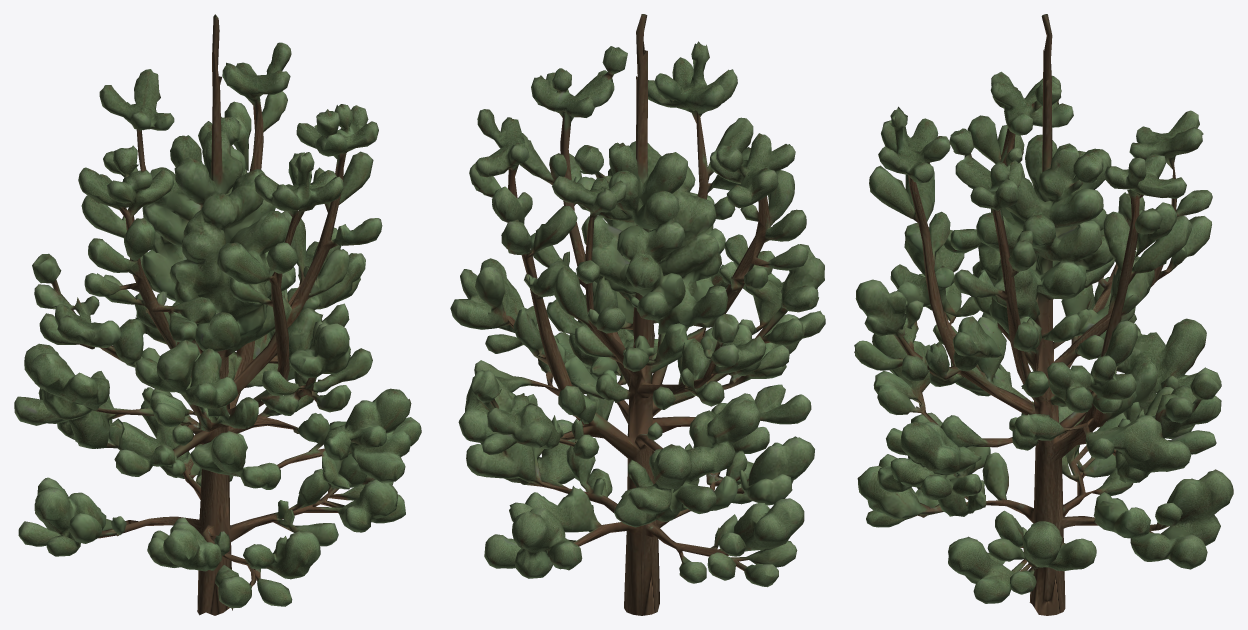
File: pine.glb
3 views of the same model, side by side, from view 1: azimuth 30°, elevation 25°; view 2: azimuth 150°, elevation 25°; view 3: azimuth 270°, elevation 25° (orthographic).
Size of the model in its own units: 1.13 by 1.9 by 1.1.
1 material, 1 textured.
